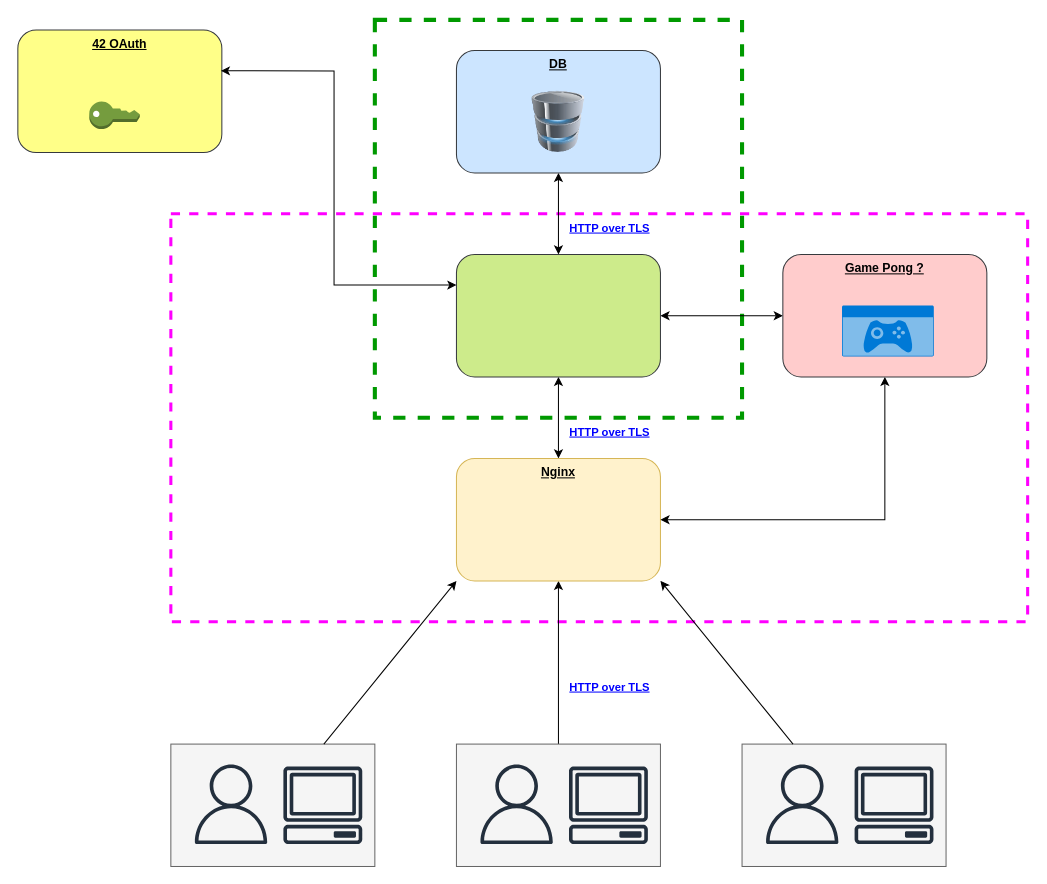
Image size: 1047x884. Some labels were removed from this diagram. Each missing label, with the centre of its shape:
Django: point 557,315
Game: point 887,330
